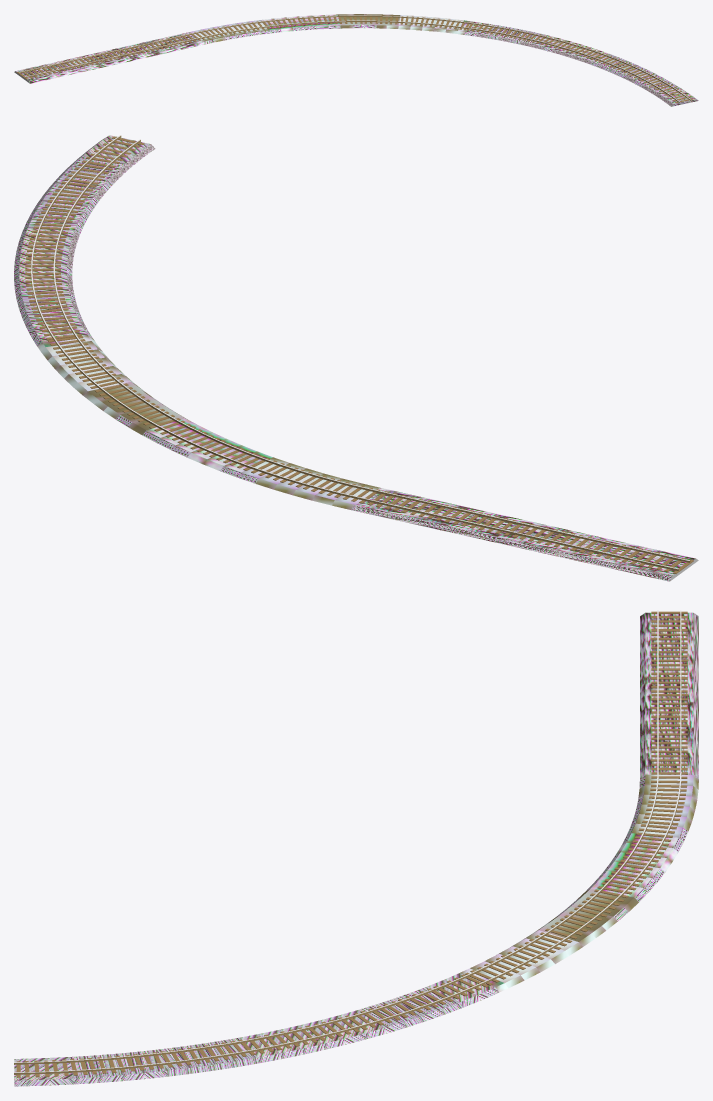
File: GMLID_53596160_235206_887.gltf
The picture shows the model from 3 angles, top to bottom: view 1: azimuth 30°, elevation 25°; view 2: azimuth 150°, elevation 25°; view 3: azimuth 270°, elevation 25°; orthographic projection. The views are drawn at different scales.
Visible parts, largest first — view 1: Z_UP; view 2: Z_UP; view 3: Z_UP.
Part boxes in pixels (x1=…): Z_UP: x1=14, y1=14, x2=698, y2=106; Z_UP: x1=14, y1=135, x2=698, y2=581; Z_UP: x1=14, y1=610, x2=698, y2=1086.
Size of the model in its own units: 94.34 by 3.06 by 61.27.
Materials: 5 (1 with a texture image).
